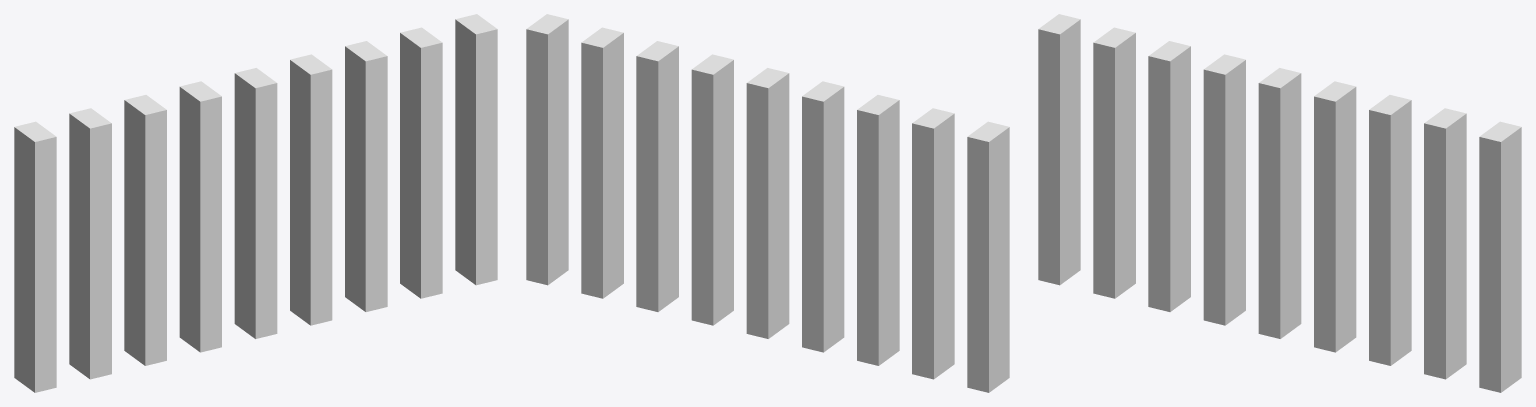
Rendered from Partitions_056.glb.
3 views of the same model, side by side, from view 1: azimuth 30°, elevation 25°; view 2: azimuth 150°, elevation 25°; view 3: azimuth 330°, elevation 25° (orthographic).
Parts seen in each view (by area): view 1: Partitions_056; view 2: Partitions_056; view 3: Partitions_056.
Part boxes in pixels (<box>): Partitions_056: <box>14,14,497,392</box>; Partitions_056: <box>526,14,1009,392</box>; Partitions_056: <box>1038,14,1521,392</box>.
Size of the model in its own units: 1.93 by 1 by 0.15.
1 material, 1 textured.
